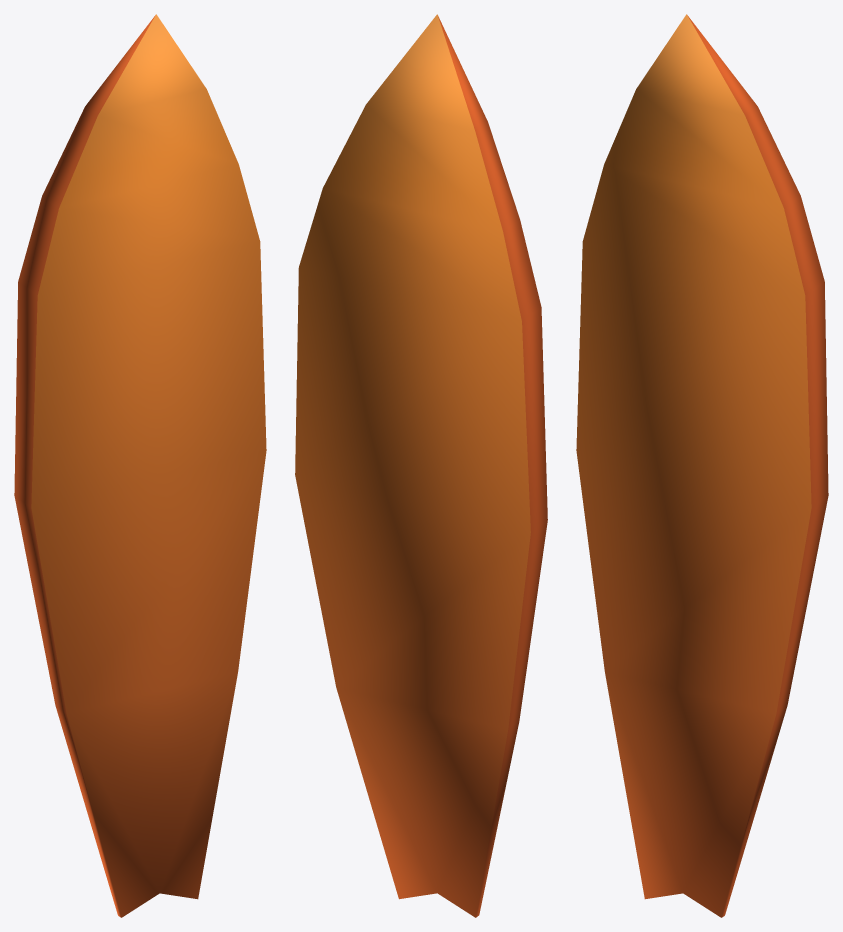
File: SurfBoard_03.fbx
3 renders of one model, left to right at view 1: azimuth 30°, elevation 25°; view 2: azimuth 150°, elevation 25°; view 3: azimuth 330°, elevation 25°, orthographic.
Parts seen in each view (by area): view 1: SurfBoard_03; view 2: SurfBoard_03; view 3: SurfBoard_03.
Part boxes in pixels (box(x1,y1,x2,y2)): SurfBoard_03: box(14, 14, 266, 917); SurfBoard_03: box(295, 14, 547, 917); SurfBoard_03: box(576, 14, 828, 917).
Bounding box in the file's own units: 0.1975 × 0.716 × 0.0442.
